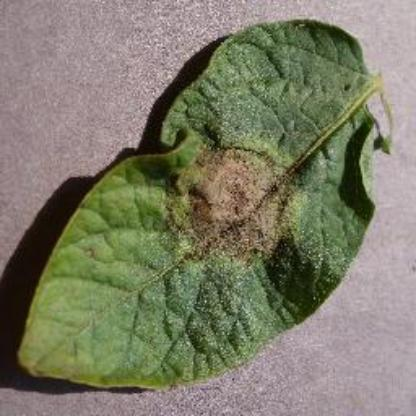Late-Blight: (23, 20, 396, 392)
